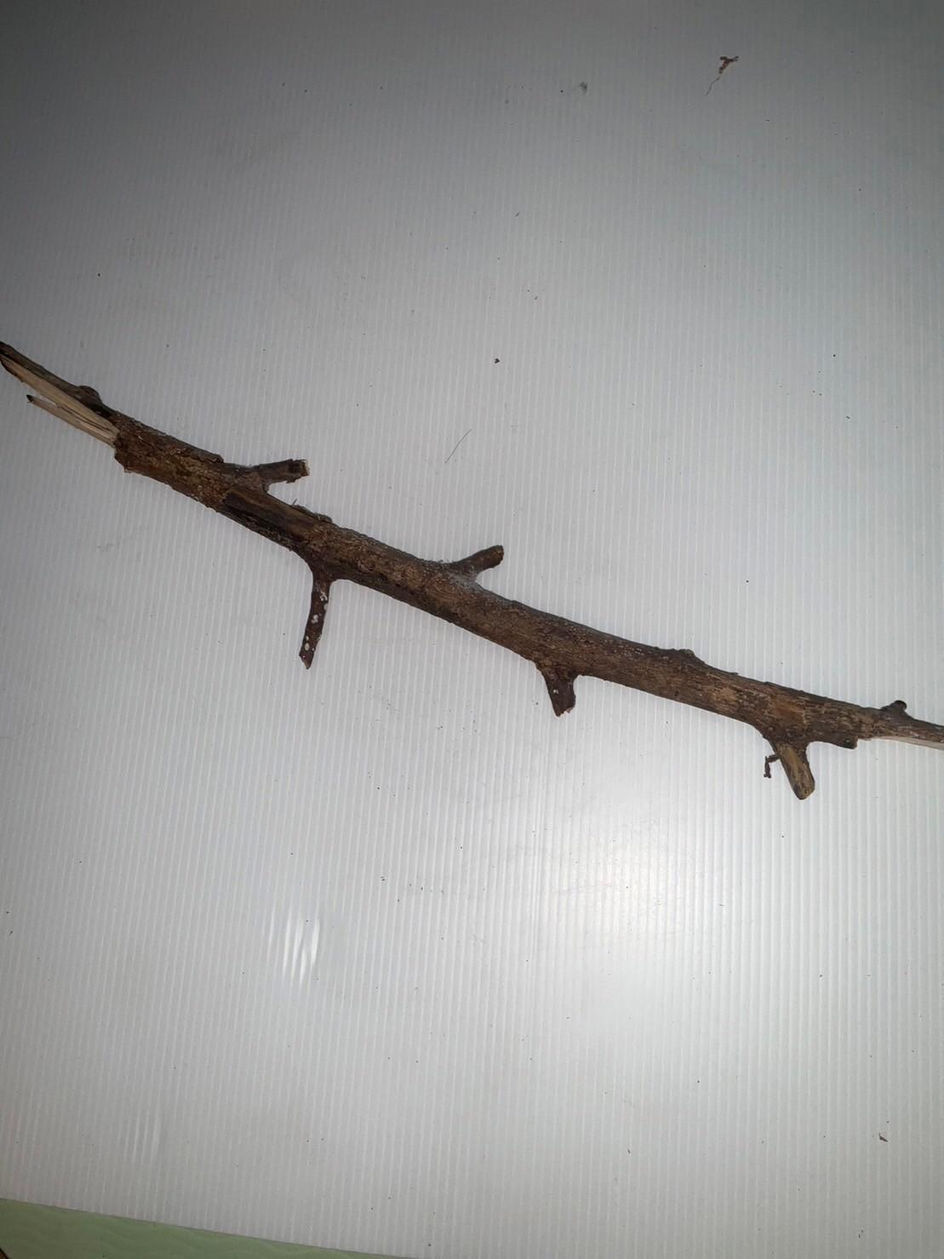Sharps: (1, 339, 941, 800)
